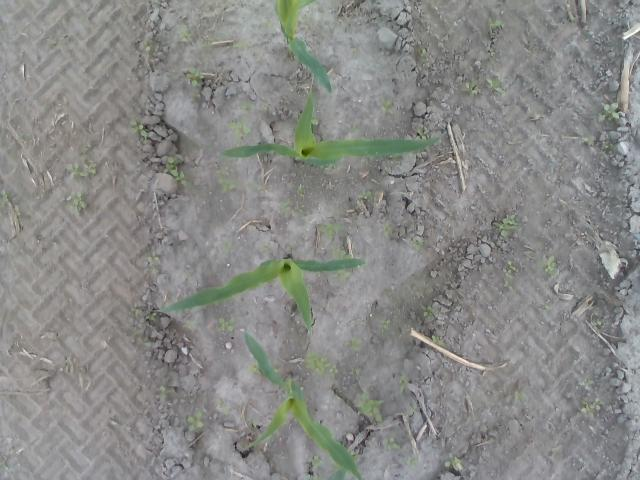Maize: (220, 76, 438, 170), (244, 330, 366, 480), (154, 255, 368, 340), (272, 0, 334, 96)
Weeds: (355, 390, 385, 423), (304, 350, 338, 376), (464, 77, 504, 97), (224, 118, 256, 142), (165, 157, 186, 183), (128, 118, 150, 142), (63, 160, 96, 176), (598, 101, 620, 123), (317, 223, 346, 239), (66, 190, 88, 211), (498, 214, 518, 237), (278, 202, 304, 218), (143, 254, 161, 275), (217, 177, 242, 192), (186, 66, 203, 88), (186, 410, 203, 431), (502, 262, 514, 290), (544, 255, 559, 276), (383, 436, 403, 450), (398, 370, 410, 393), (217, 316, 234, 332), (446, 457, 463, 471), (332, 242, 346, 258), (350, 336, 364, 352), (432, 334, 447, 348), (380, 98, 394, 112), (178, 30, 194, 42), (514, 390, 530, 402), (420, 304, 434, 317), (240, 100, 256, 111), (488, 17, 504, 28), (310, 454, 322, 468), (405, 456, 417, 470), (581, 402, 593, 415), (382, 222, 393, 236), (358, 190, 373, 200), (159, 386, 167, 403), (294, 183, 306, 194), (146, 311, 158, 322), (420, 48, 428, 64), (414, 238, 424, 250), (248, 364, 258, 376), (144, 40, 152, 54), (0, 192, 11, 202), (583, 135, 593, 146), (349, 450, 358, 462), (382, 318, 392, 328), (351, 367, 362, 376), (220, 30, 232, 38), (232, 41, 245, 48), (15, 206, 22, 216), (416, 134, 426, 141), (608, 144, 616, 150)
